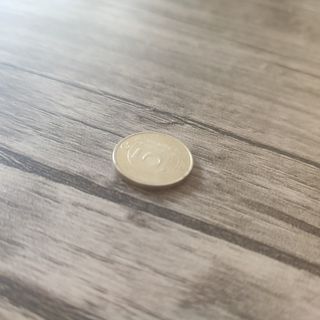5KURUS: (110, 130, 194, 189)
